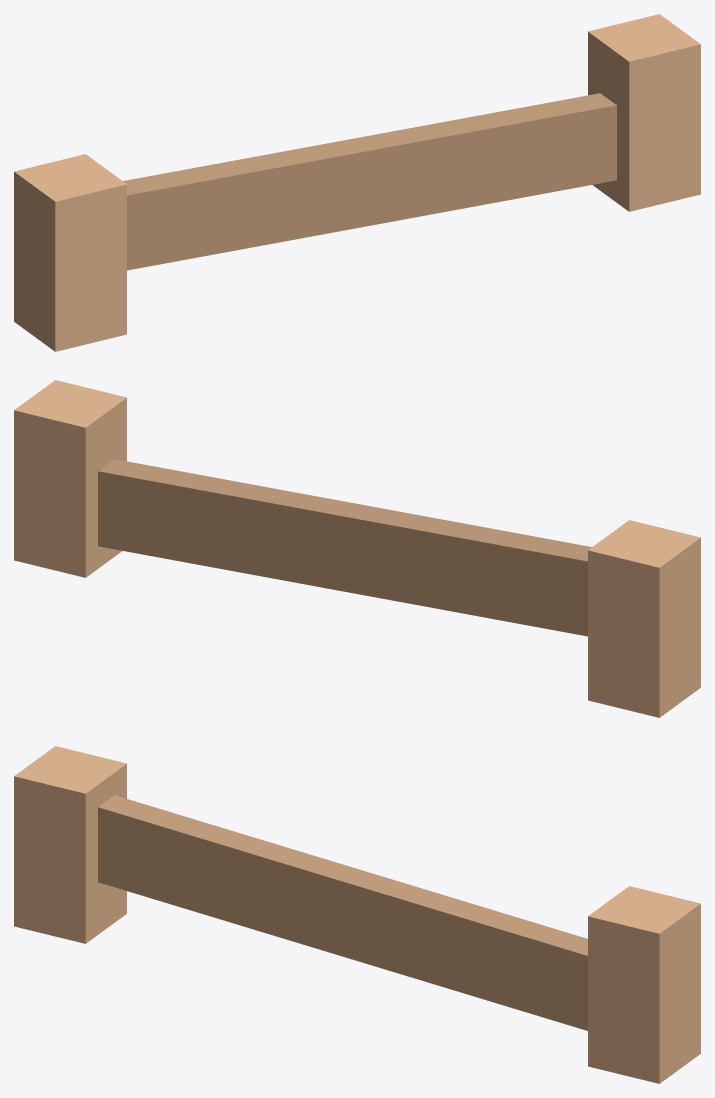
3 views of the same model, one above another, from view 1: azimuth 30°, elevation 25°; view 2: azimuth 150°, elevation 25°; view 3: azimuth 330°, elevation 25° (orthographic).
Parts seen in each view (by area): view 1: fenceLowBroken; view 2: fenceLowBroken; view 3: fenceLowBroken.
Part boxes in pixels (bbox=[...]): fenceLowBroken: bbox=[14, 14, 700, 351]; fenceLowBroken: bbox=[14, 380, 700, 717]; fenceLowBroken: bbox=[14, 746, 700, 1083].
Size of the model in its own units: 0.9 by 0.2 by 0.1.
